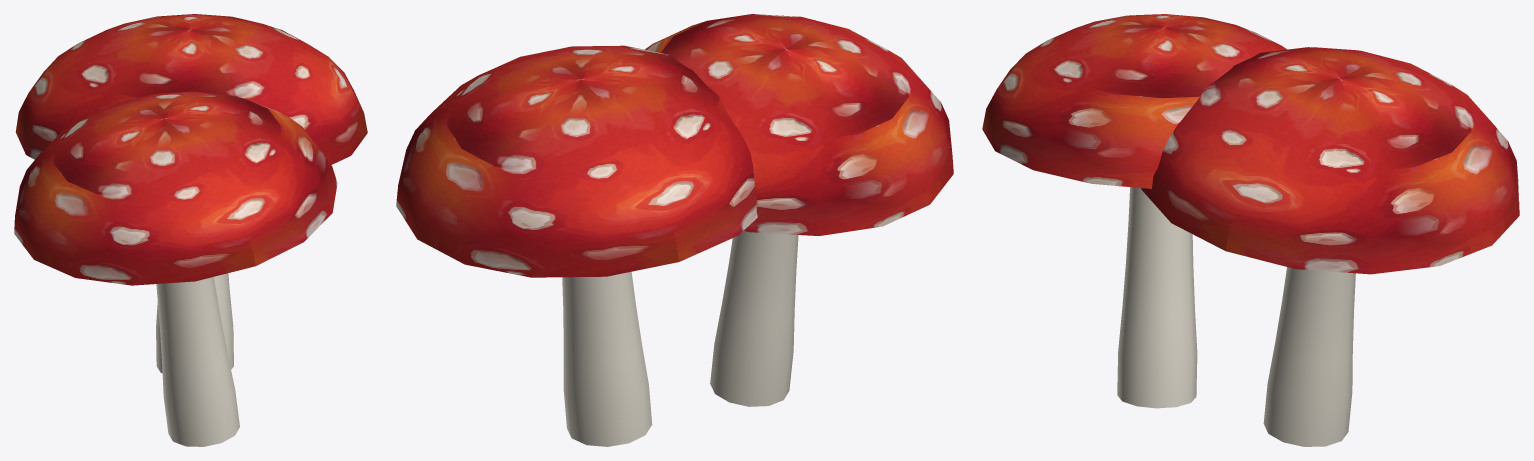
Rendered from fly_agaric1.glb.
3 renders of one model, left to right at view 1: azimuth 30°, elevation 25°; view 2: azimuth 150°, elevation 25°; view 3: azimuth 270°, elevation 25°, orthographic. The views are drawn at different scales.
Visible parts, largest first — view 1: fly_agaric1_cap_LOD0, fly_agaric1_stem_LOD0; view 2: fly_agaric1_cap_LOD0, fly_agaric1_stem_LOD0; view 3: fly_agaric1_cap_LOD0, fly_agaric1_stem_LOD0.
Boxes of the visible parts, bbox=[...] form: fly_agaric1_cap_LOD0: bbox=[14, 14, 367, 285]; fly_agaric1_stem_LOD0: bbox=[156, 273, 239, 446]; fly_agaric1_cap_LOD0: bbox=[396, 14, 953, 277]; fly_agaric1_stem_LOD0: bbox=[562, 231, 798, 446]; fly_agaric1_cap_LOD0: bbox=[982, 14, 1519, 274]; fly_agaric1_stem_LOD0: bbox=[1117, 187, 1355, 446].
Size of what is drawn, in the model's own units: 0.3068 by 0.2504 by 0.339.
Materials: 3 (1 with a texture image).
